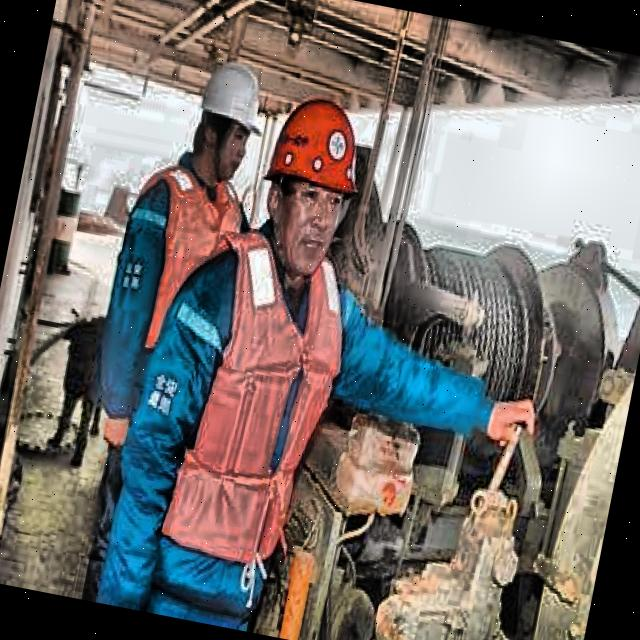helmet: (244, 82, 382, 288), (176, 45, 280, 199)
